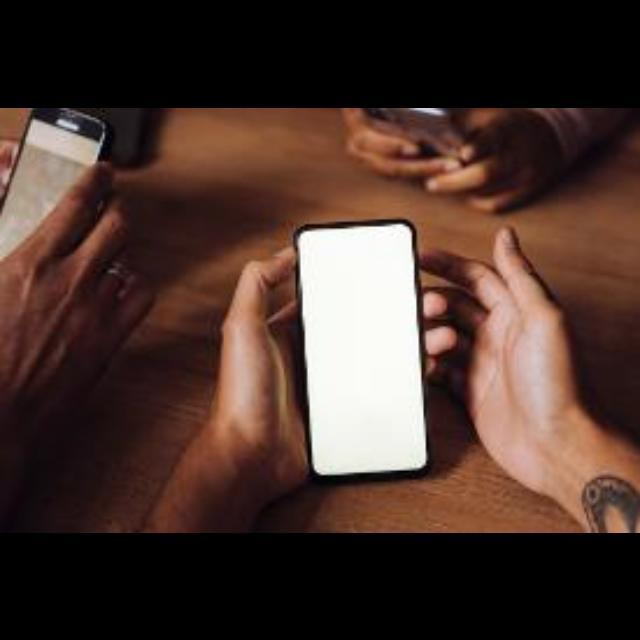phone: (0, 106, 157, 328), (299, 222, 427, 482)
